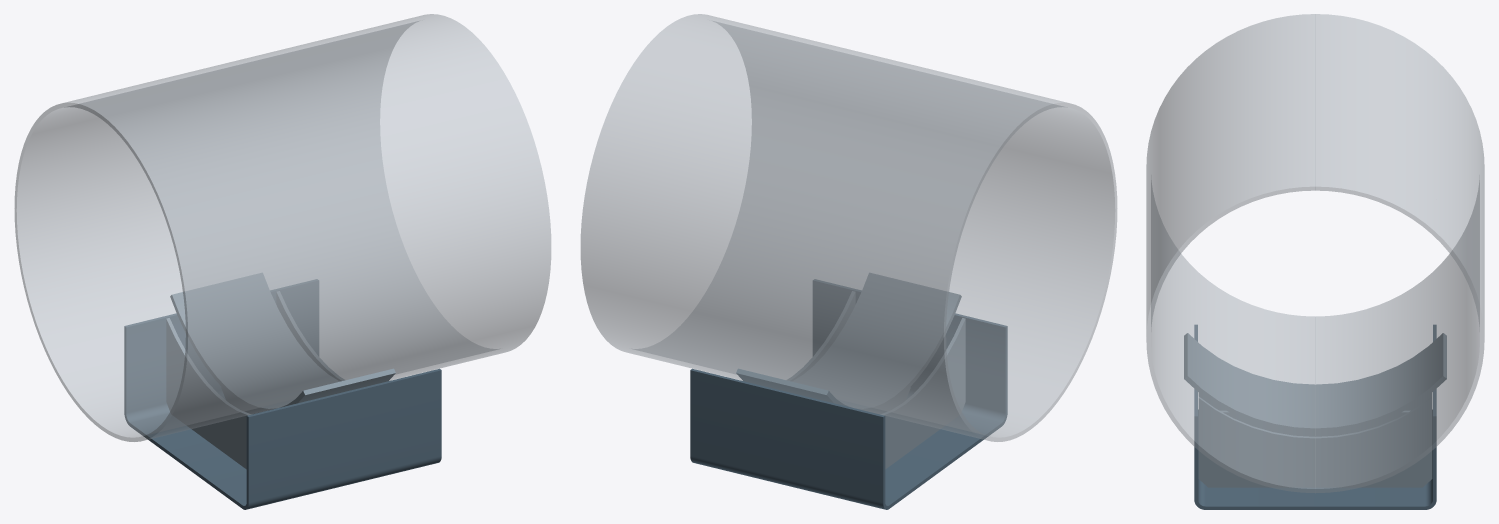
File: TS-624.000-048-opora-dn530-H100-L340.glb
3 renders of one model, left to right at view 1: azimuth 30°, elevation 25°; view 2: azimuth 150°, elevation 25°; view 3: azimuth 270°, elevation 25°, orthographic. The views are drawn at different scales.
Parts seen in each view (by area): view 1: truba, skoba, podushka_0, rebro3_0, rebro3_1; view 2: truba, skoba, podushka_0, rebro3_0, rebro3_1; view 3: truba, rebro3_1, podushka_0, skoba, rebro4_0, rebro3_0.
Part boxes in pixels (x1=…): truba: x1=14, y1=14, x2=551, y2=441; skoba: x1=124, y1=279, x2=441, y2=509; podushka_0: x1=170, y1=273, x2=395, y2=412; rebro3_0: x1=166, y1=318, x2=251, y2=469; rebro3_1: x1=276, y1=291, x2=344, y2=380; truba: x1=580, y1=14, x2=1117, y2=441; skoba: x1=690, y1=279, x2=1007, y2=509; podushka_0: x1=736, y1=273, x2=961, y2=412; rebro3_0: x1=880, y1=318, x2=965, y2=469; rebro3_1: x1=787, y1=291, x2=855, y2=380; truba: x1=1146, y1=14, x2=1484, y2=493; rebro3_1: x1=1198, y1=397, x2=1432, y2=487; podushka_0: x1=1184, y1=333, x2=1446, y2=432; skoba: x1=1194, y1=324, x2=1436, y2=509; rebro4_0: x1=1220, y1=410, x2=1410, y2=436; rebro3_0: x1=1198, y1=367, x2=1432, y2=410.
Size of the model in its own units: 640 by 629 by 530.
